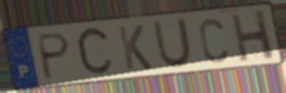C: (74, 23, 116, 80), (197, 16, 230, 65)
H: (228, 8, 277, 64)
K: (116, 24, 155, 72)
P: (37, 31, 73, 82)
U: (151, 17, 194, 70)
